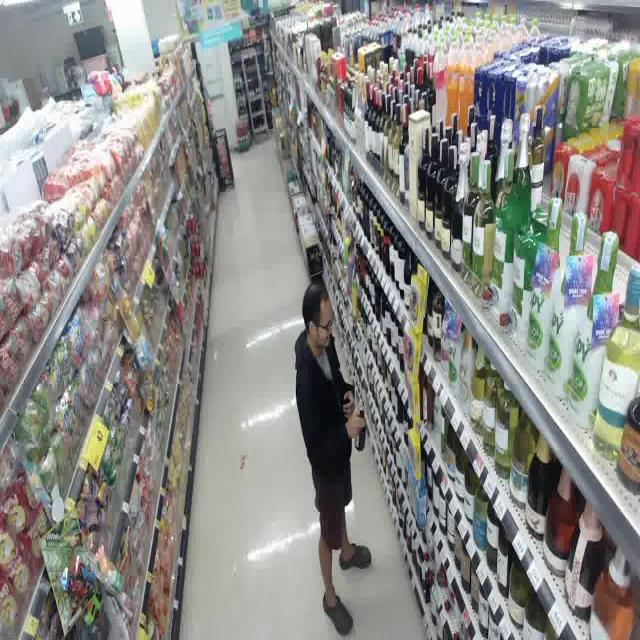pickup: (283, 264, 386, 640)
